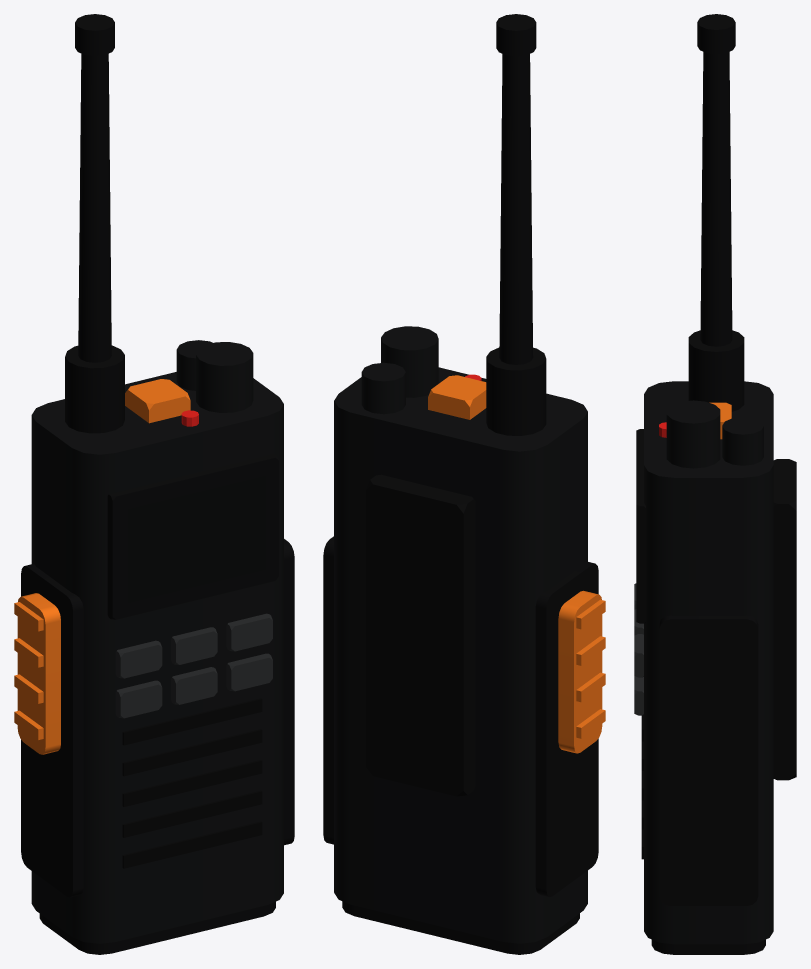
File: WalkieTalkie.obj
The picture shows the model from 3 angles, left to right: view 1: azimuth 30°, elevation 25°; view 2: azimuth 150°, elevation 25°; view 3: azimuth 270°, elevation 25°; orthographic projection. The views are drawn at different scales.
Parts seen in each view (by area): view 1: Walkie_Body, Walkie_Screen, Walkie_PTT; view 2: Walkie_Body, Walkie_PTT; view 3: Walkie_Body.
Boxes of the visible parts, box(x1,y1,x2,y2) form: Walkie_Body: box(21, 14, 294, 954); Walkie_Screen: box(127, 475, 265, 603); Walkie_PTT: box(14, 593, 60, 754); Walkie_Body: box(323, 14, 598, 954); Walkie_PTT: box(558, 590, 605, 753); Walkie_Body: box(634, 14, 796, 954).
Size of the model in its own units: 0.07 by 0.249 by 0.0425.
